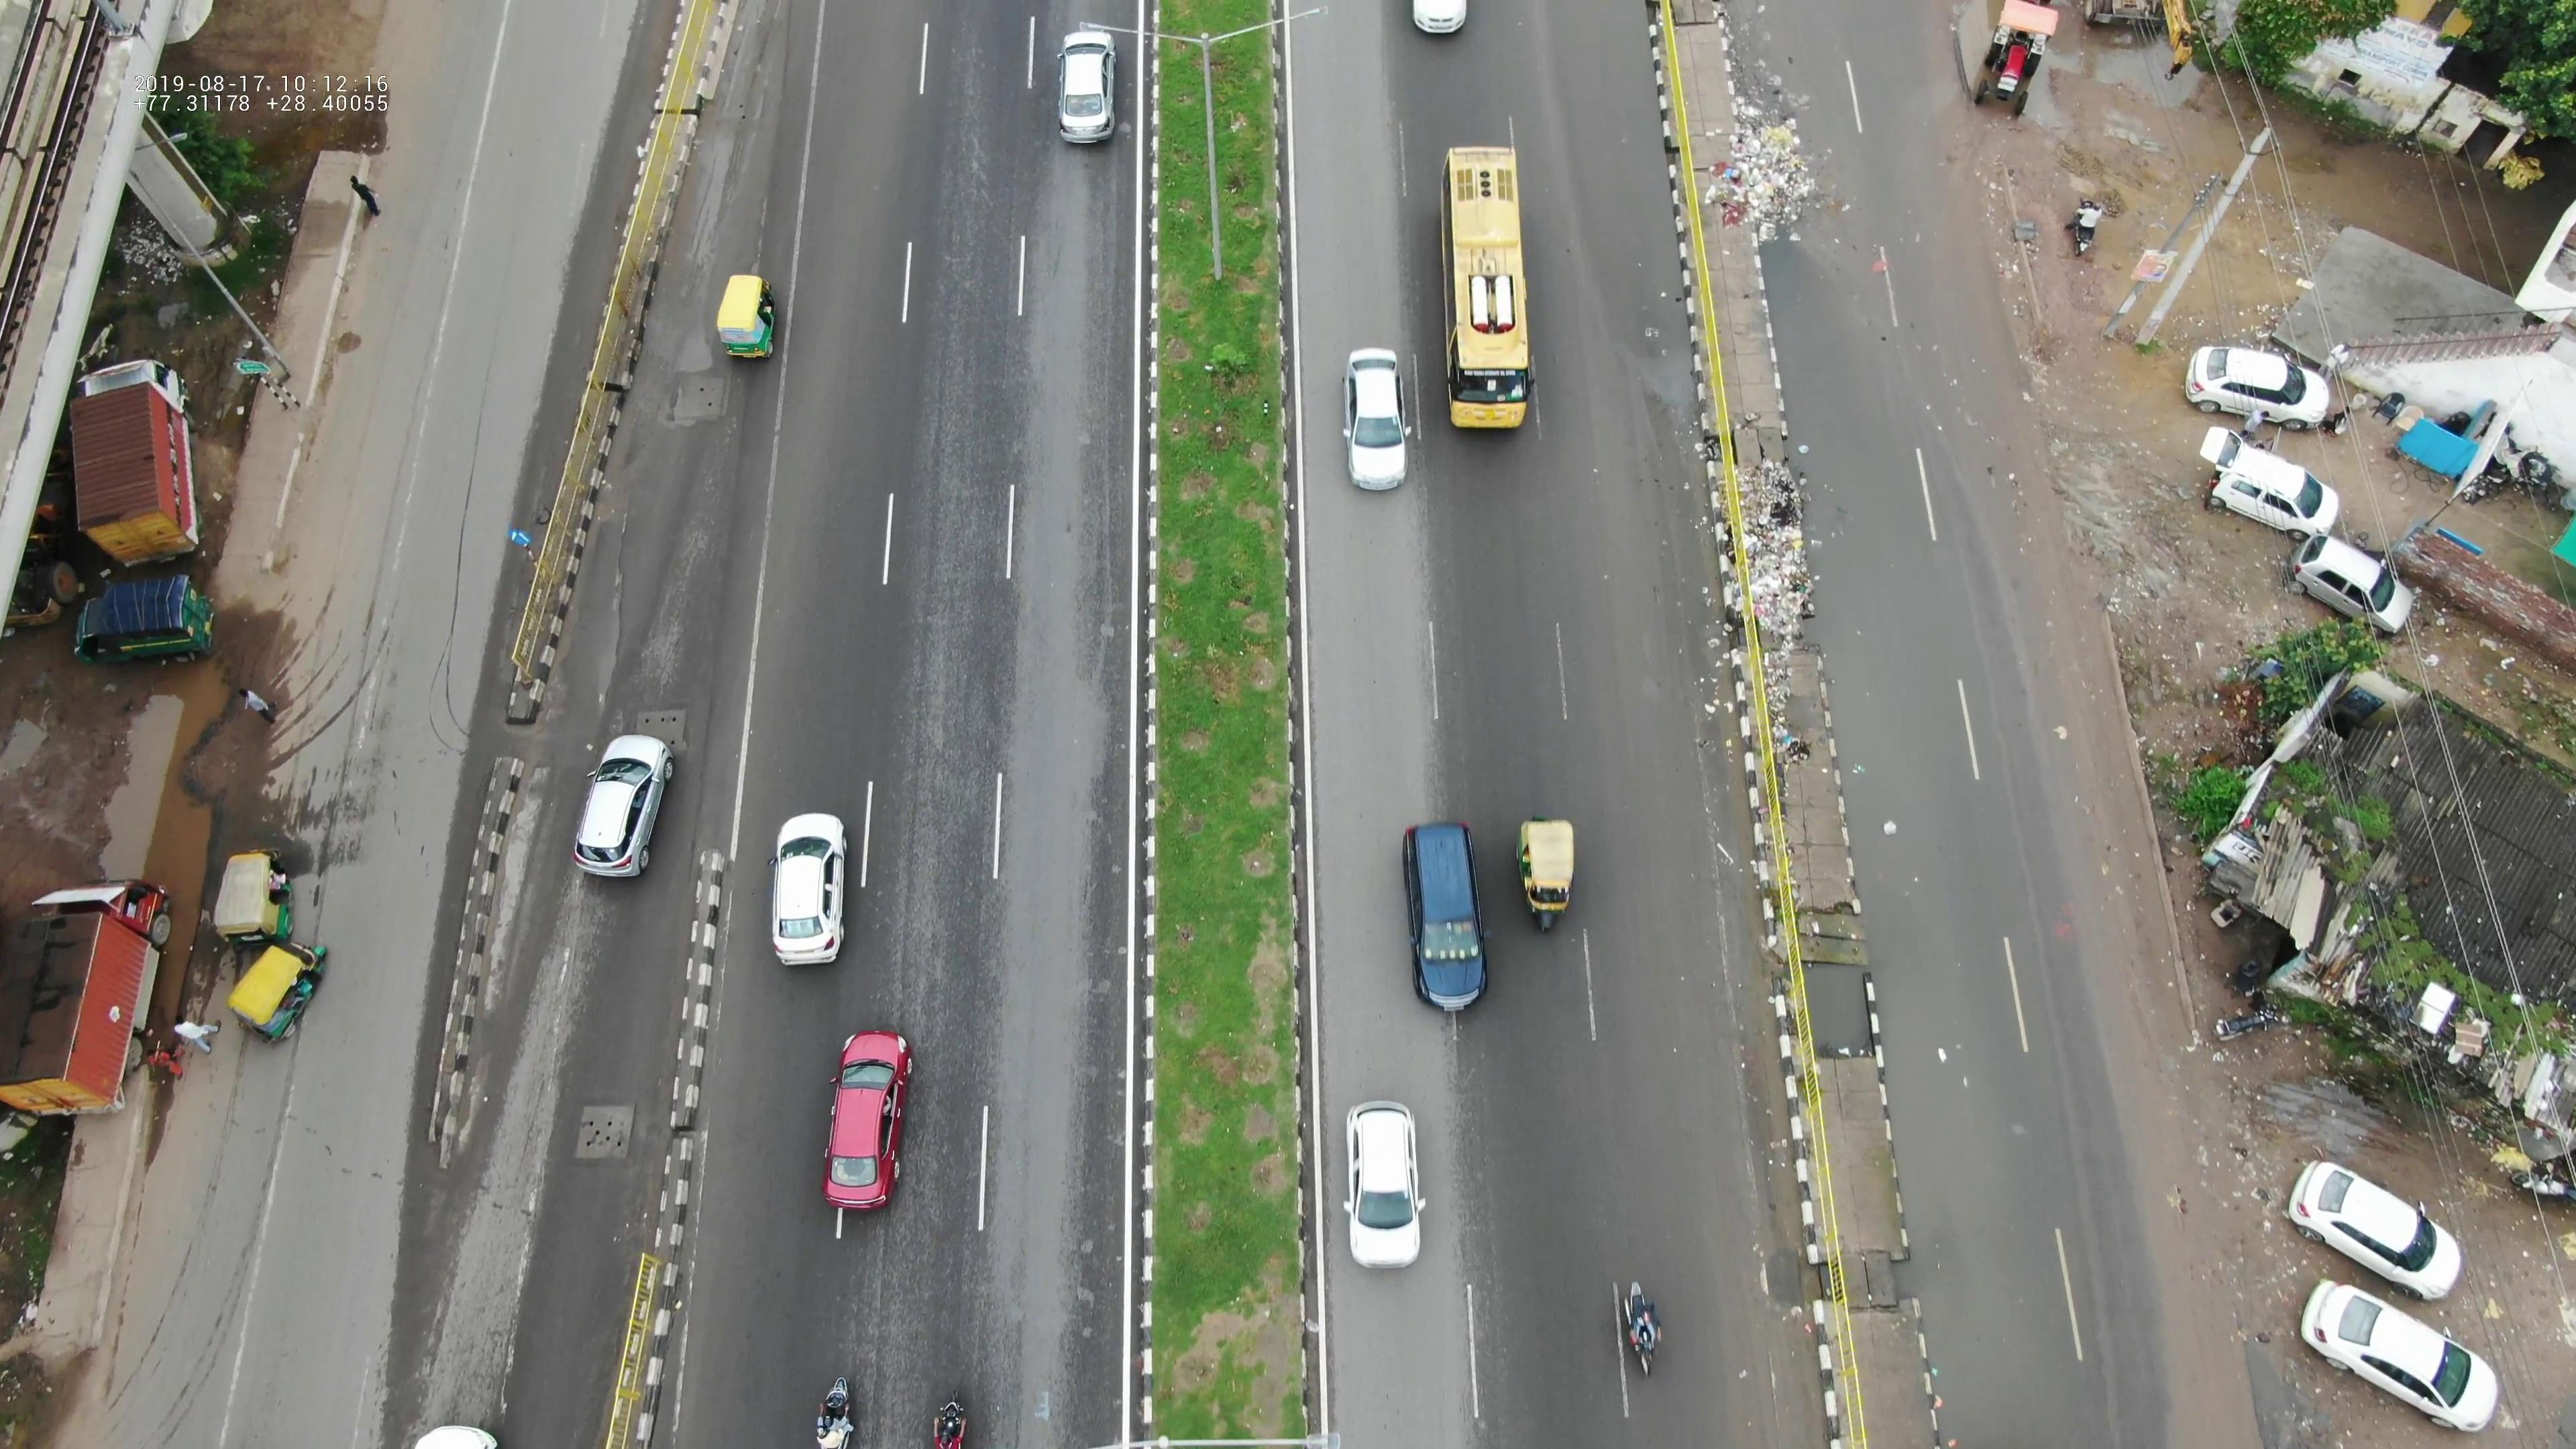Road_side_garbage: (1720, 472, 1813, 722), (1725, 117, 1831, 249)
